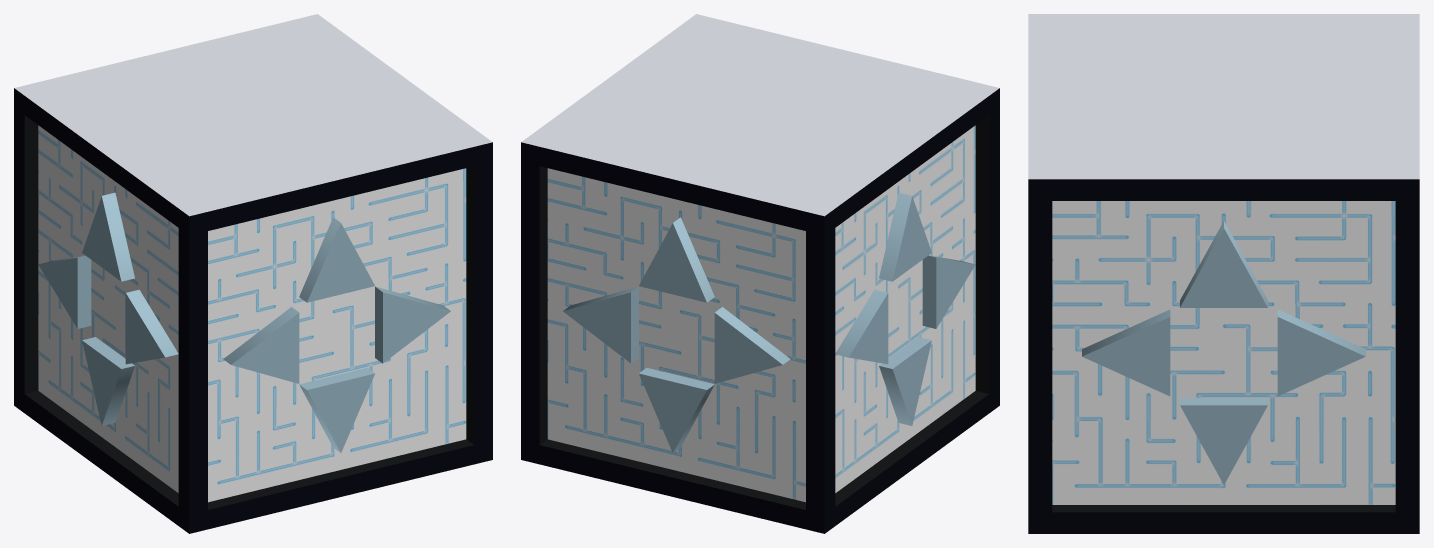
The model's file is Blok.fbx.
The picture shows the model from 3 angles, left to right: view 1: azimuth 30°, elevation 25°; view 2: azimuth 150°, elevation 25°; view 3: azimuth 270°, elevation 25°; orthographic projection. The views are drawn at different scales.
Parts seen in each view (by area): view 1: Cube, Cube_2, Cube_3, Cube_4, Cube_1, Cube_7, Cube_9, Cube_8, Cube_6; view 2: Cube, Cube_2, Cube_3, Cube_4, Cube_1, Cube_7, Cube_9, Cube_6, Cube_8; view 3: Cube, Cube_8, Cube_6, Cube_7, Cube_9.
Boxes of the visible parts, x1=… form: Cube: x1=14, y1=14, x2=492, y2=533; Cube_2: x1=299, y1=217, x2=374, y2=302; Cube_3: x1=223, y1=307, x2=299, y2=383; Cube_4: x1=299, y1=367, x2=374, y2=452; Cube_1: x1=375, y1=286, x2=450, y2=363; Cube_7: x1=82, y1=192, x2=134, y2=281; Cube_9: x1=82, y1=337, x2=134, y2=425; Cube_8: x1=125, y1=289, x2=178, y2=364; Cube_6: x1=38, y1=255, x2=91, y2=328; Cube: x1=521, y1=14, x2=999, y2=533; Cube_2: x1=639, y1=217, x2=714, y2=302; Cube_3: x1=714, y1=307, x2=790, y2=383; Cube_4: x1=639, y1=367, x2=714, y2=452; Cube_1: x1=563, y1=286, x2=638, y2=363; Cube_7: x1=879, y1=192, x2=931, y2=281; Cube_9: x1=879, y1=337, x2=931, y2=425; Cube_6: x1=835, y1=289, x2=888, y2=364; Cube_8: x1=922, y1=255, x2=975, y2=328; Cube: x1=1028, y1=14, x2=1419, y2=533; Cube_8: x1=1082, y1=309, x2=1170, y2=396; Cube_6: x1=1277, y1=309, x2=1365, y2=396; Cube_7: x1=1180, y1=221, x2=1267, y2=307; Cube_9: x1=1180, y1=398, x2=1267, y2=484.
Bounding box in the file's own units: 200 × 200 × 200.
Materials: 5 (5 with a texture image).
